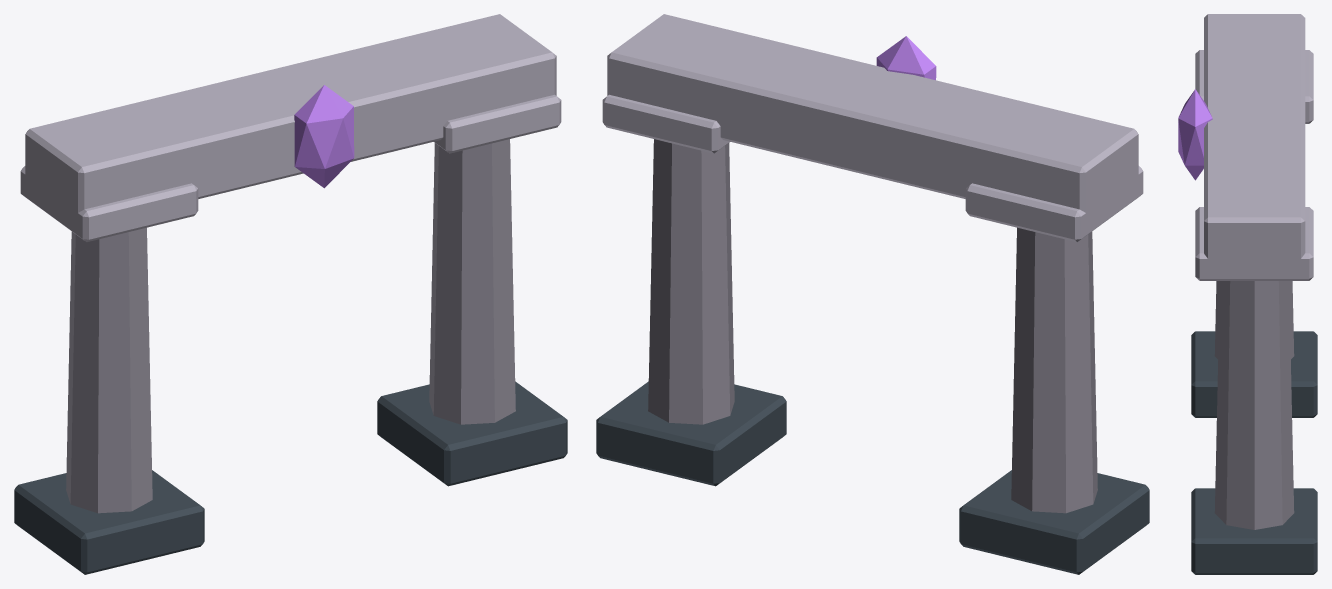
File: SH10_L04_Arch.fbx
3 renders of one model, left to right at view 1: azimuth 30°, elevation 25°; view 2: azimuth 150°, elevation 25°; view 3: azimuth 270°, elevation 25°, orthographic. The views are drawn at different scales.
Visible parts, largest first — view 1: SH10_L04_Arch; view 2: SH10_L04_Arch; view 3: SH10_L04_Arch.
Boxes of the visible parts, left/top/right/bottom form: SH10_L04_Arch: left=14, top=14, right=567, bottom=574; SH10_L04_Arch: left=596, top=14, right=1149, bottom=574; SH10_L04_Arch: left=1178, top=14, right=1317, bottom=574.
Bounding box in the file's own units: 295 × 250 × 82.71.
